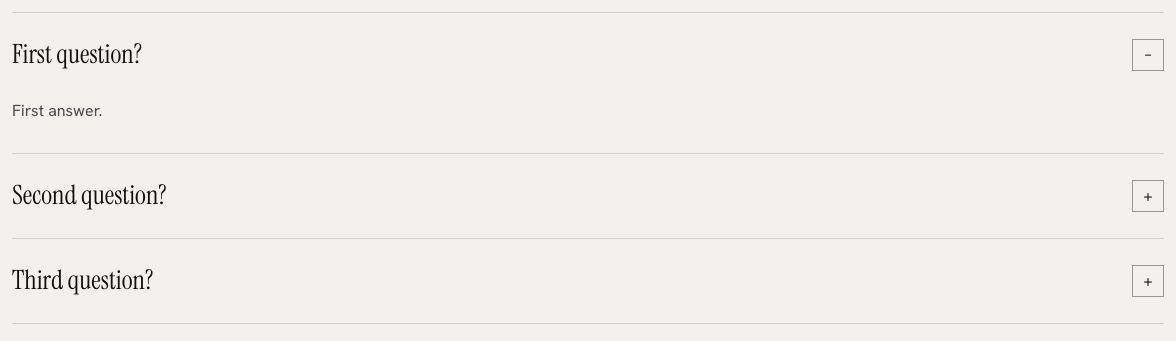
Scenario: toggling › closes the open question when clicked again
Click the button "First question? –" at (77,54), box [12,13,1164,97]
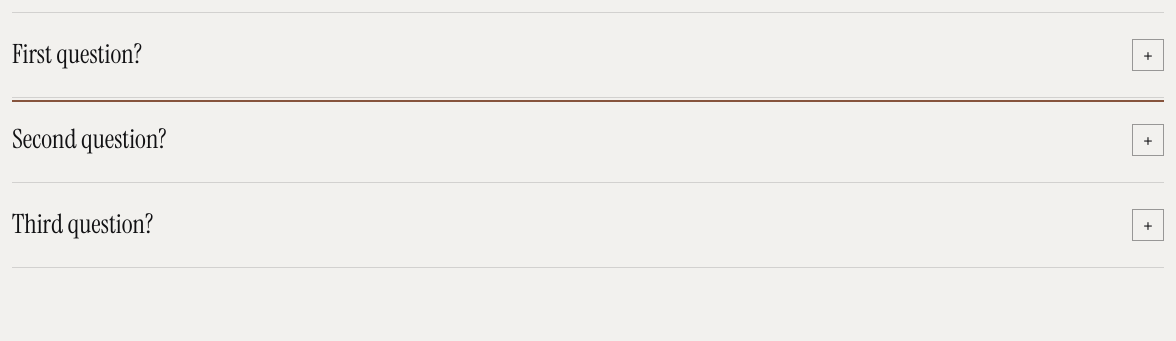
Expected: the text "First answer." is gone
